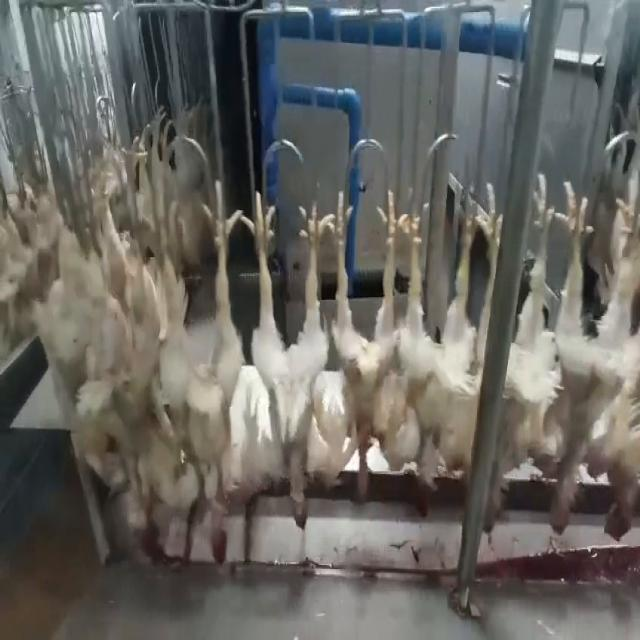chicken: (392, 169, 482, 521), (84, 174, 171, 537), (241, 193, 331, 535), (326, 189, 418, 507), (477, 160, 555, 531), (172, 174, 242, 570), (544, 177, 596, 536), (592, 179, 640, 543)
